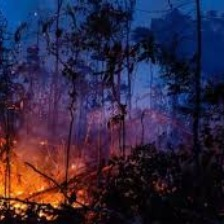incendio: (47, 152, 90, 213), (3, 161, 45, 221)
